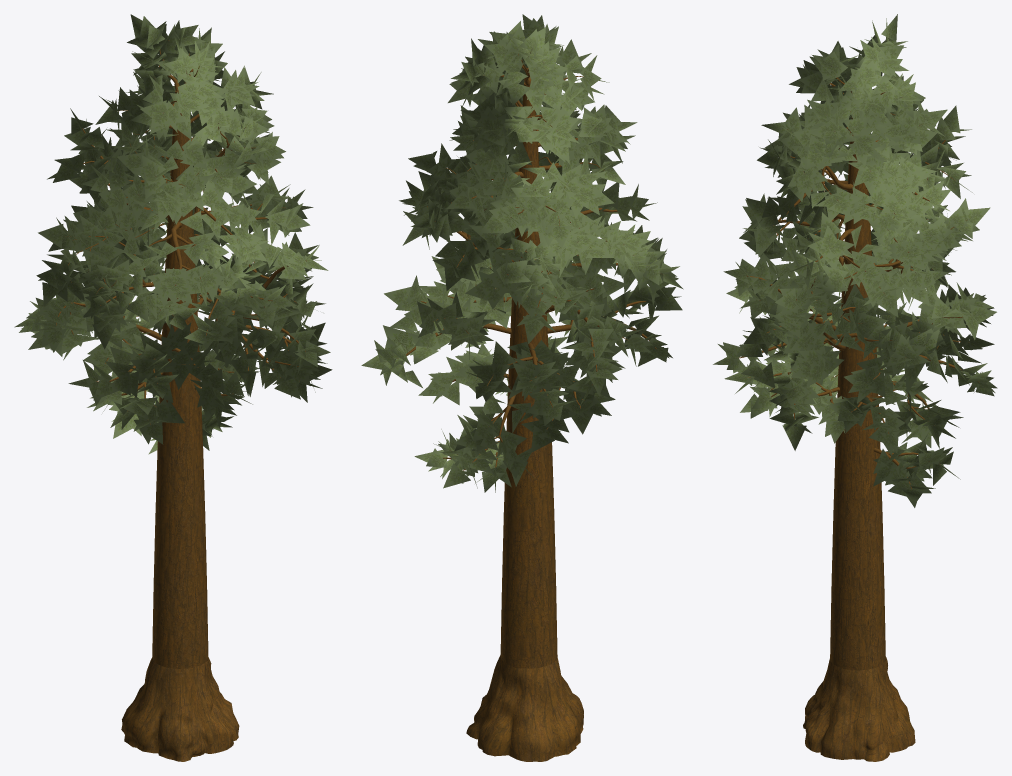
Rendered from sequoia.obj.
3 views of the same model, side by side, from view 1: azimuth 30°, elevation 25°; view 2: azimuth 150°, elevation 25°; view 3: azimuth 270°, elevation 25° (orthographic). The views are drawn at different scales.
Parts seen in each view (by area): view 1: Sequoia_Leaves, Sequoia_Trunk, Sequoia_Base; view 2: Sequoia_Leaves, Sequoia_Trunk, Sequoia_Base; view 3: Sequoia_Leaves, Sequoia_Trunk, Sequoia_Base.
Boxes of the visible parts, x1=… form: Sequoia_Leaves: x1=14, y1=14, x2=332, y2=454; Sequoia_Trunk: x1=56, y1=40, x2=306, y2=668; Sequoia_Base: x1=121, y1=657, x2=239, y2=761; Sequoia_Leaves: x1=361, y1=14, x2=683, y2=492; Sequoia_Trunk: x1=397, y1=50, x2=662, y2=668; Sequoia_Base: x1=466, y1=655, x2=583, y2=761; Sequoia_Leaves: x1=713, y1=14, x2=997, y2=507; Sequoia_Trunk: x1=738, y1=66, x2=979, y2=670; Sequoia_Base: x1=803, y1=656, x2=915, y2=761.
Bounding box in the file's own units: 24.96 × 64.5 × 23.55.
3 materials, 3 textured.
